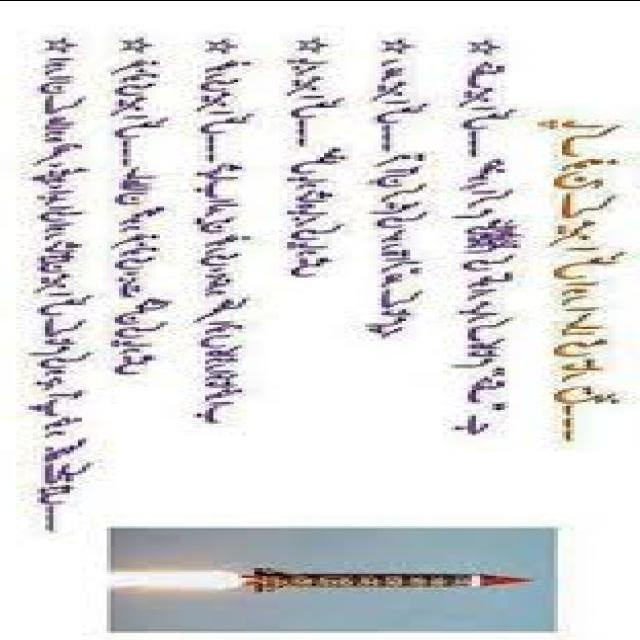Missile: (242, 564, 533, 593)
